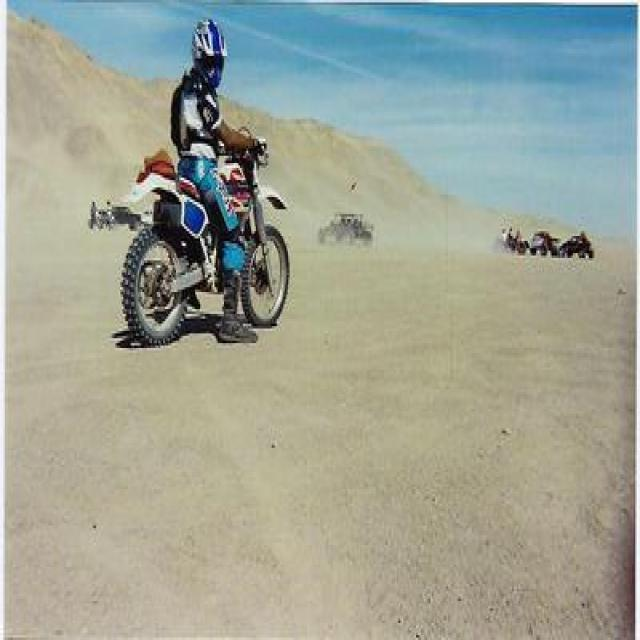motorbike: (121, 135, 291, 346)
person: (171, 18, 259, 344)
